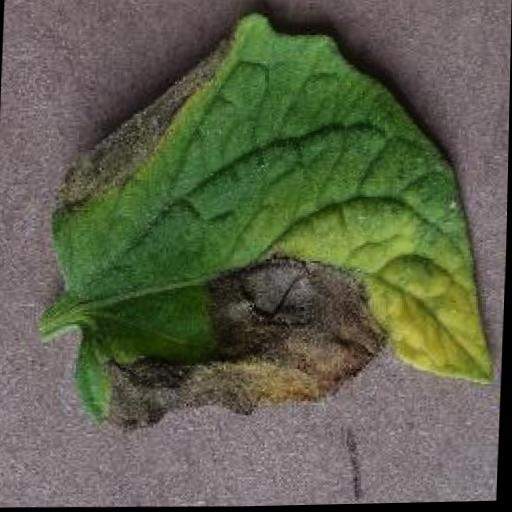Early Blight: (36, 2, 510, 435)
